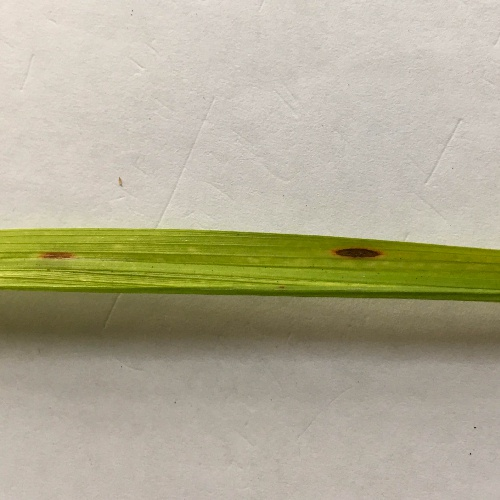Bercak Coklat: (329, 238, 385, 266), (32, 241, 82, 264)
